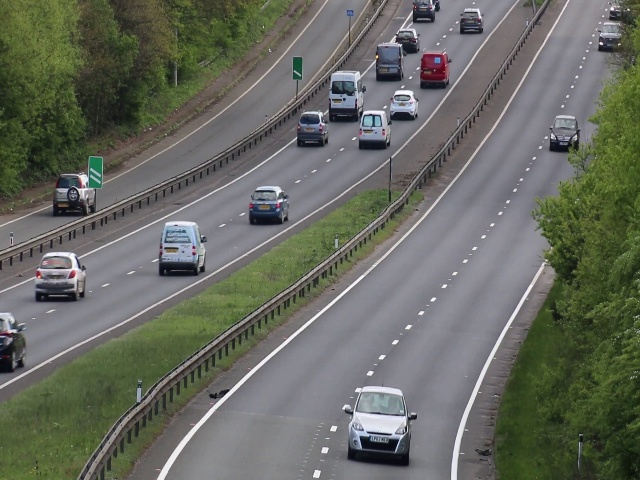car: (347, 386, 412, 465), (159, 218, 207, 275), (35, 250, 87, 302), (246, 182, 290, 227), (328, 69, 363, 121), (53, 171, 95, 213), (1, 311, 27, 369), (418, 50, 451, 90), (373, 42, 405, 81), (359, 111, 391, 150), (296, 110, 329, 147), (549, 114, 580, 151), (389, 88, 419, 119), (458, 7, 484, 36), (599, 17, 620, 52), (395, 26, 419, 50), (411, 1, 437, 20)
